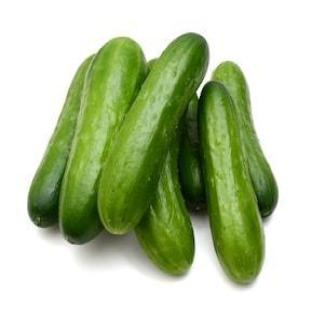Zucchini: (99, 34, 208, 233), (60, 38, 146, 243), (199, 82, 264, 283), (29, 56, 92, 226), (213, 62, 278, 217), (135, 138, 194, 274), (179, 95, 205, 208)
